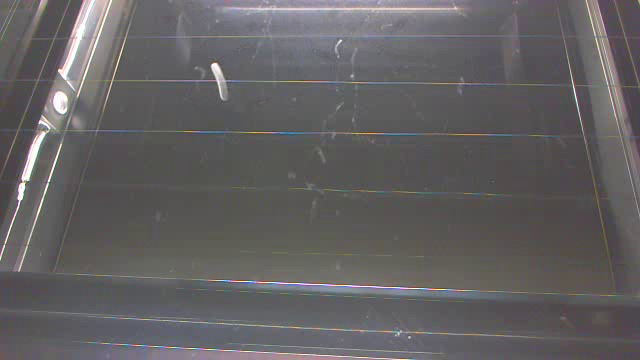alpha: (205, 59, 237, 108)
